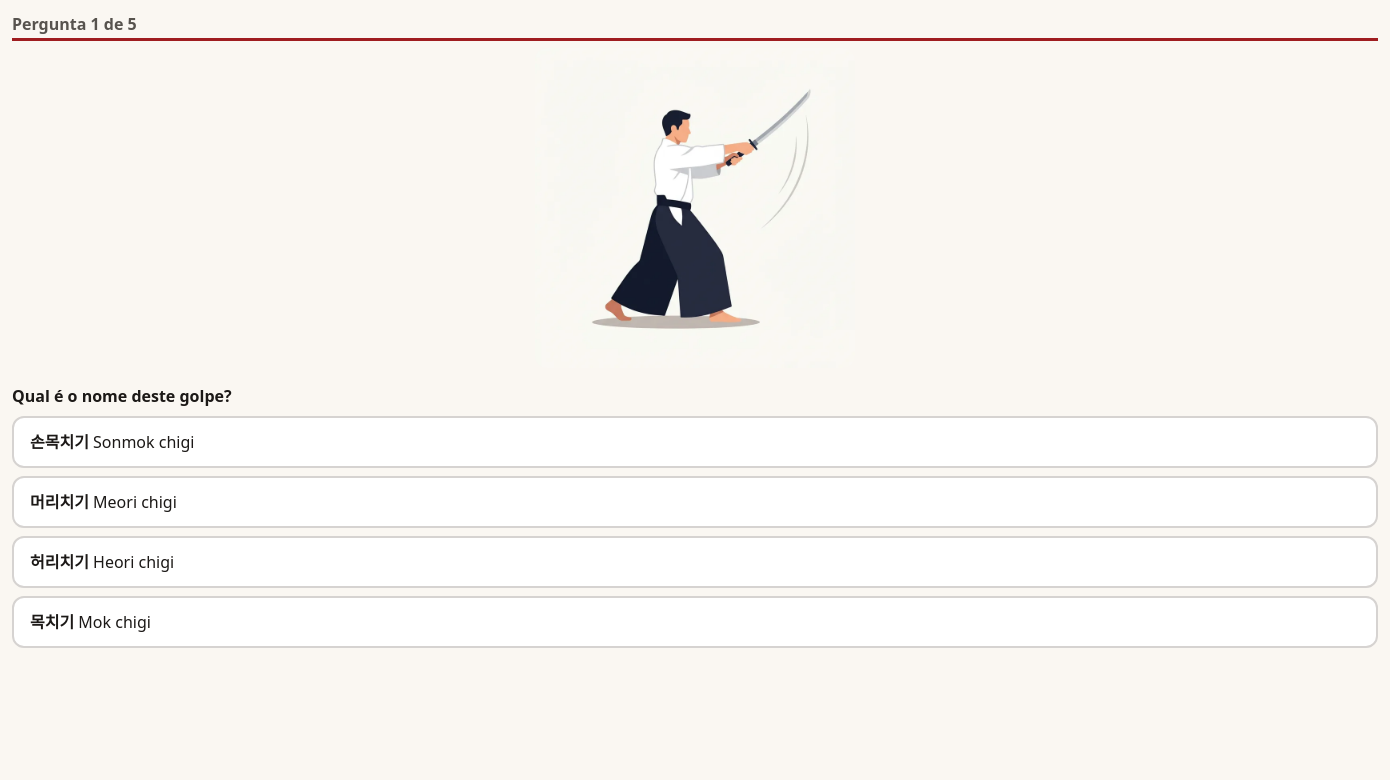
Pergunta do quiz (R16, R17) › resposta certa: marca como certa e mostra hangul e português
Step 1. Click the button "머리치기 Meori chigi" → (59, 502), box [12,476,1378,528]
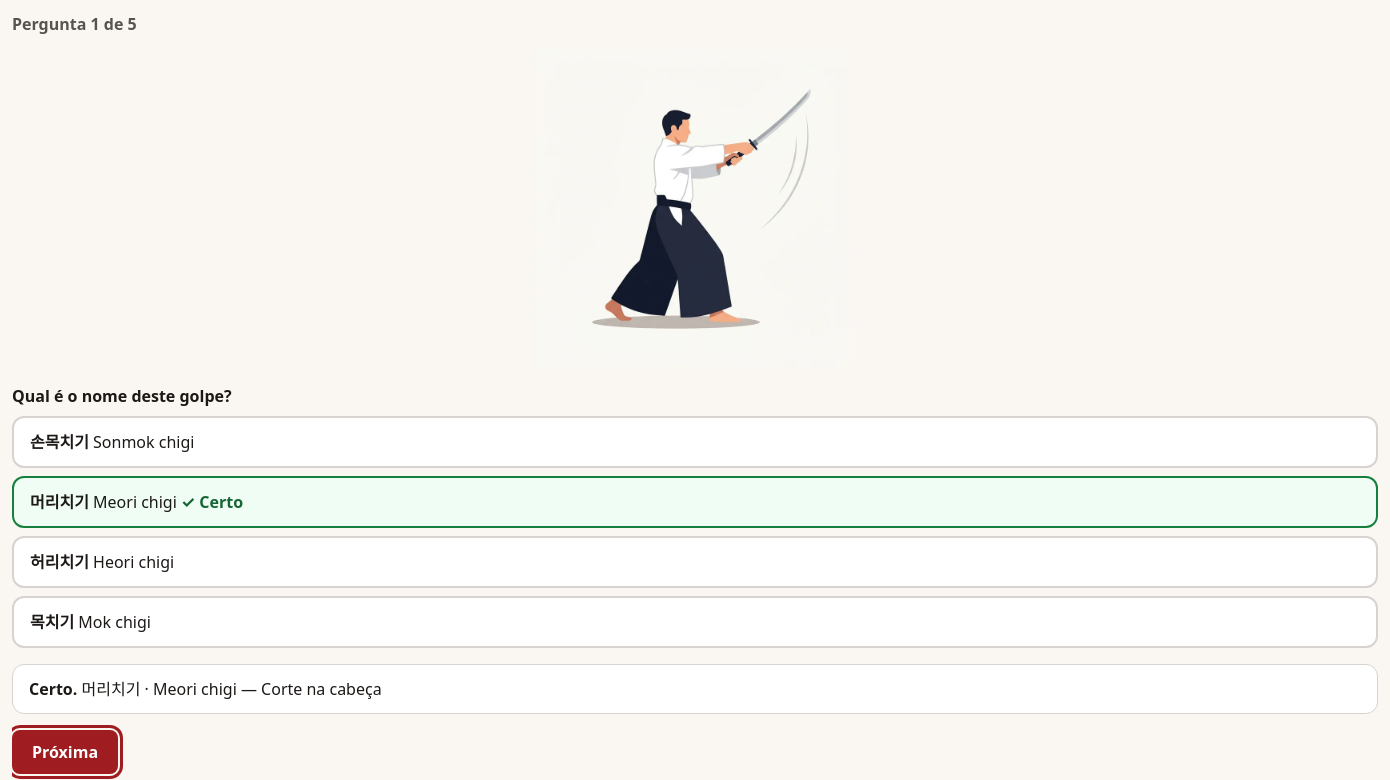
Expected: the element showing "Certo. 머리치기 · Meori chigi — Corte na cabeça" is shown, [12,664,1378,714]
